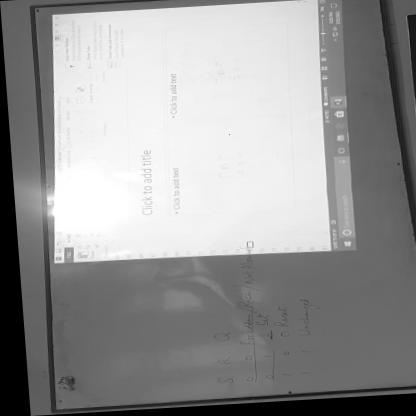Handwritten text: (204, 330, 234, 389), (289, 299, 321, 341), (232, 247, 255, 286), (231, 315, 254, 349), (266, 306, 289, 330), (227, 292, 256, 311), (251, 315, 266, 329)
